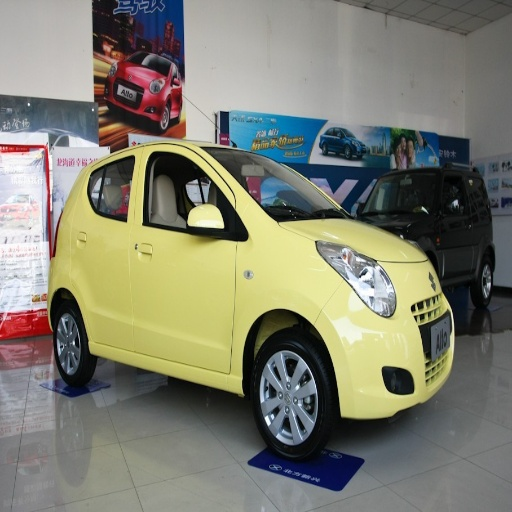front_bumper: (329, 262, 457, 416)
front_right_door: (135, 148, 240, 372)
front_right_light: (318, 243, 396, 317)
